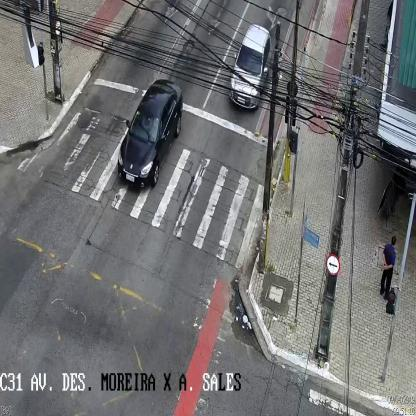car: (118, 80, 180, 190), (228, 24, 266, 114)
person: (379, 235, 395, 302)
